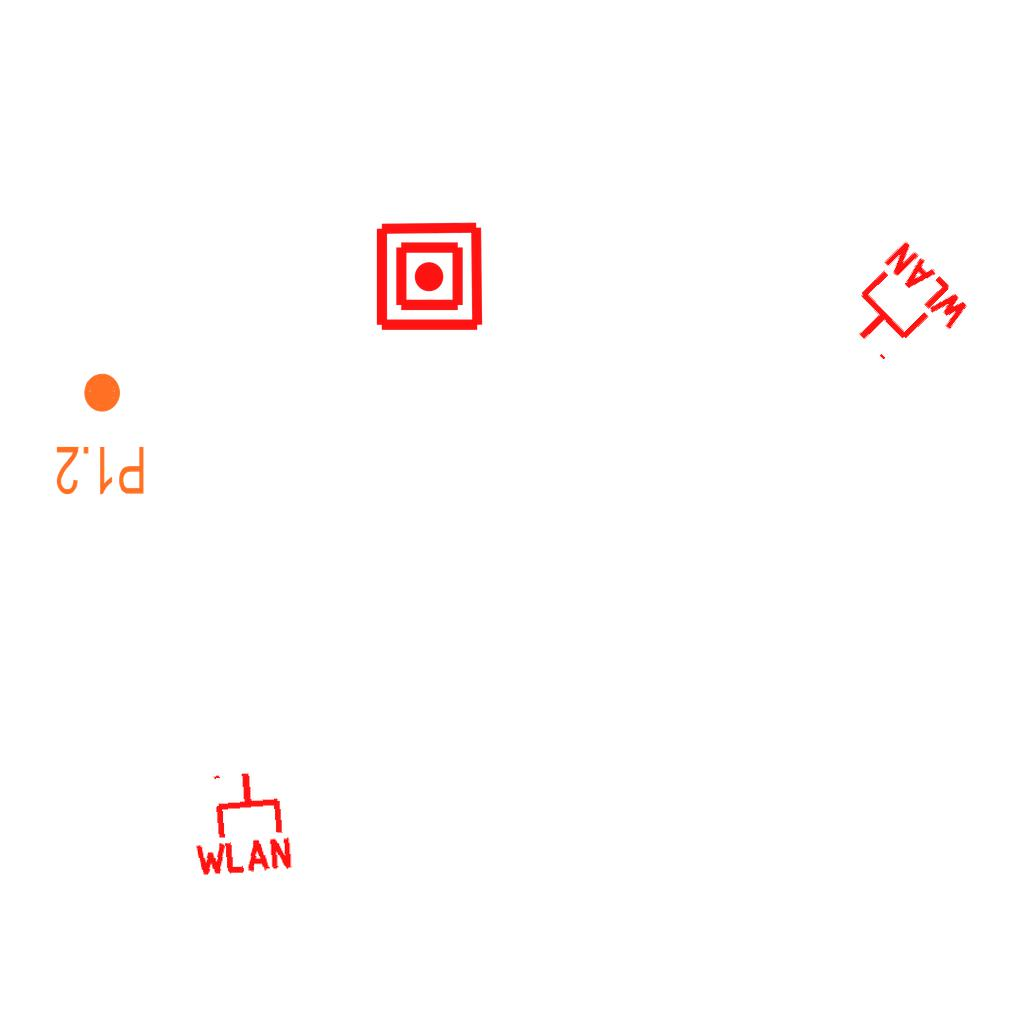Downlight_LED_Einbauleuchten_Flur: (54, 370, 147, 498)
NAM-Nichtautomatischer_Melder: (373, 220, 486, 333)
WLAN: (828, 236, 977, 384), (184, 765, 297, 879)
